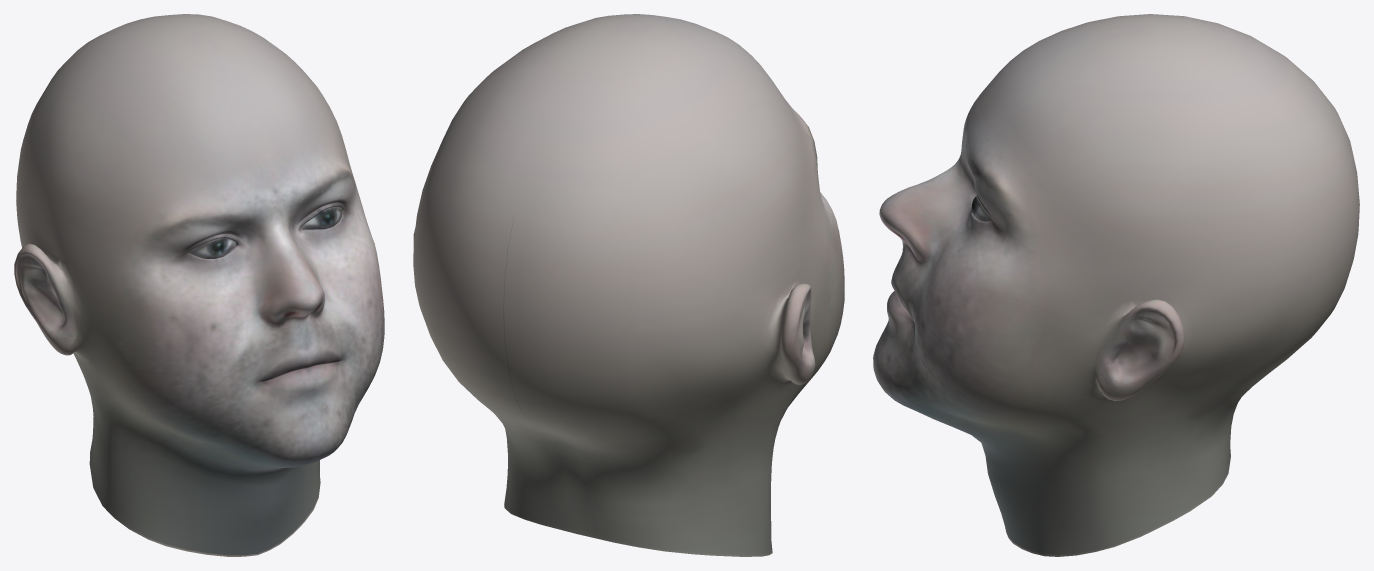
3 renders of one model, left to right at view 1: azimuth 30°, elevation 25°; view 2: azimuth 150°, elevation 25°; view 3: azimuth 270°, elevation 25°, orthographic. The views are drawn at different scales.
Parts seen in each view (by area): view 1: skin_hi, eyeR_hi, eyeL_hi; view 2: skin_hi; view 3: skin_hi.
Boxes of the visible parts, left/top/right/bottom form: skin_hi: left=14, top=14, right=384, bottom=556; eyeR_hi: left=189, top=238, right=235, bottom=258; eyeL_hi: left=300, top=206, right=342, bottom=229; skin_hi: left=413, top=14, right=844, bottom=556; skin_hi: left=873, top=14, right=1359, bottom=556.
Size of the model in its own units: 203 by 277 by 242.
Materials: 3 (3 with a texture image).
